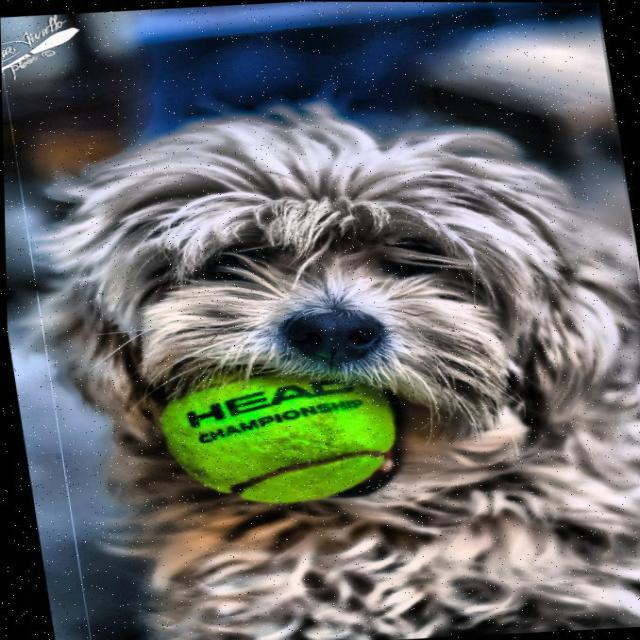tennis-ball: (162, 361, 404, 512)
